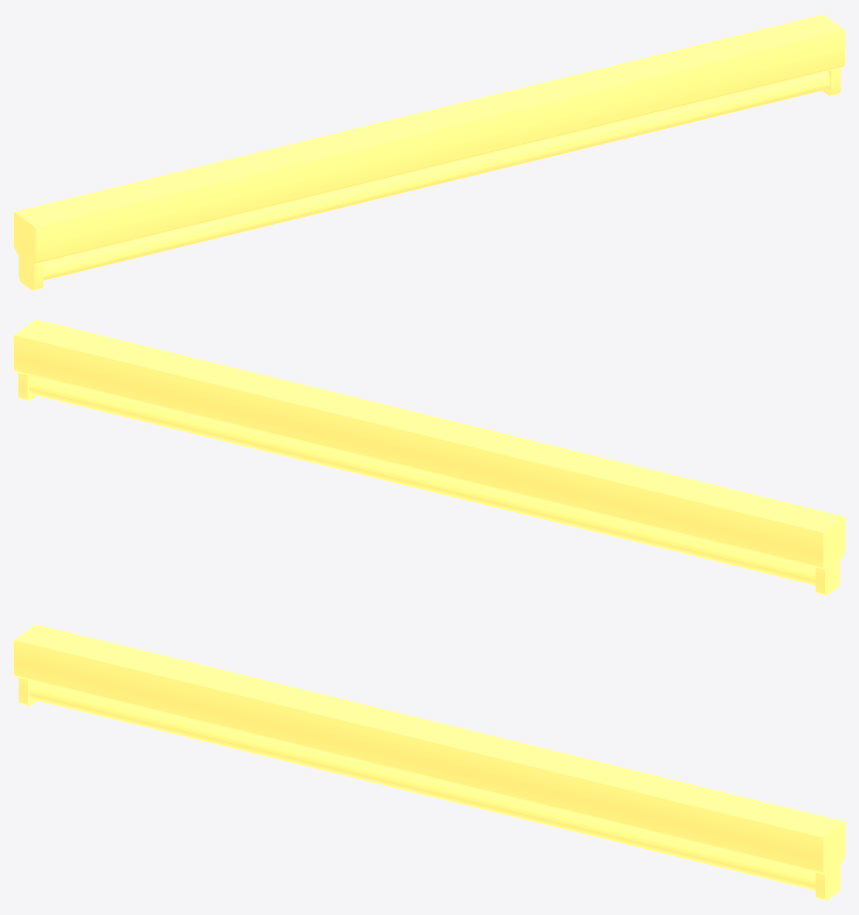
The model's file is SM_Light_Tube_01b.FBX.
3 renders of one model, top to bottom at view 1: azimuth 30°, elevation 25°; view 2: azimuth 150°, elevation 25°; view 3: azimuth 330°, elevation 25°, orthographic.
Parts seen in each view (by area): view 1: SM_Light_Tube_01b; view 2: SM_Light_Tube_01b; view 3: SM_Light_Tube_01b.
Part boxes in pixels (box(x1,y1,x2,y2)): SM_Light_Tube_01b: box(14, 14, 844, 290); SM_Light_Tube_01b: box(14, 319, 844, 595); SM_Light_Tube_01b: box(14, 624, 844, 900).
Size of the model in its own units: 125 by 5.83 by 9.93.
